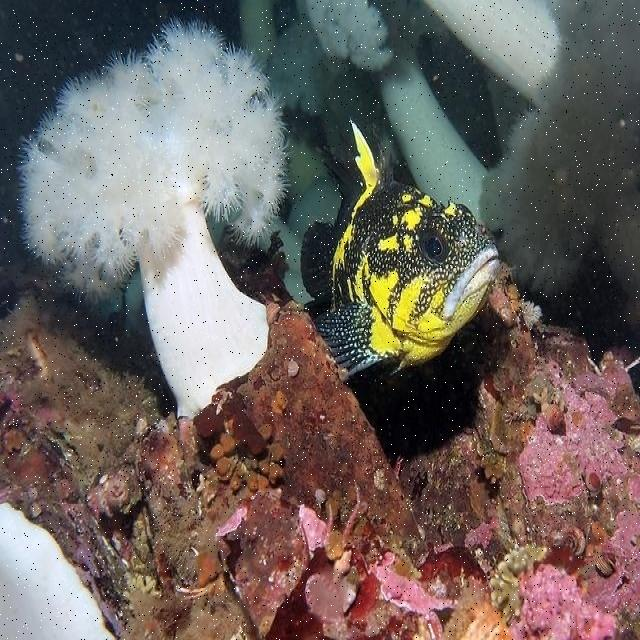fish: (302, 118, 500, 375)
reefs: (15, 16, 291, 418)
sea-floor: (3, 260, 639, 639)
